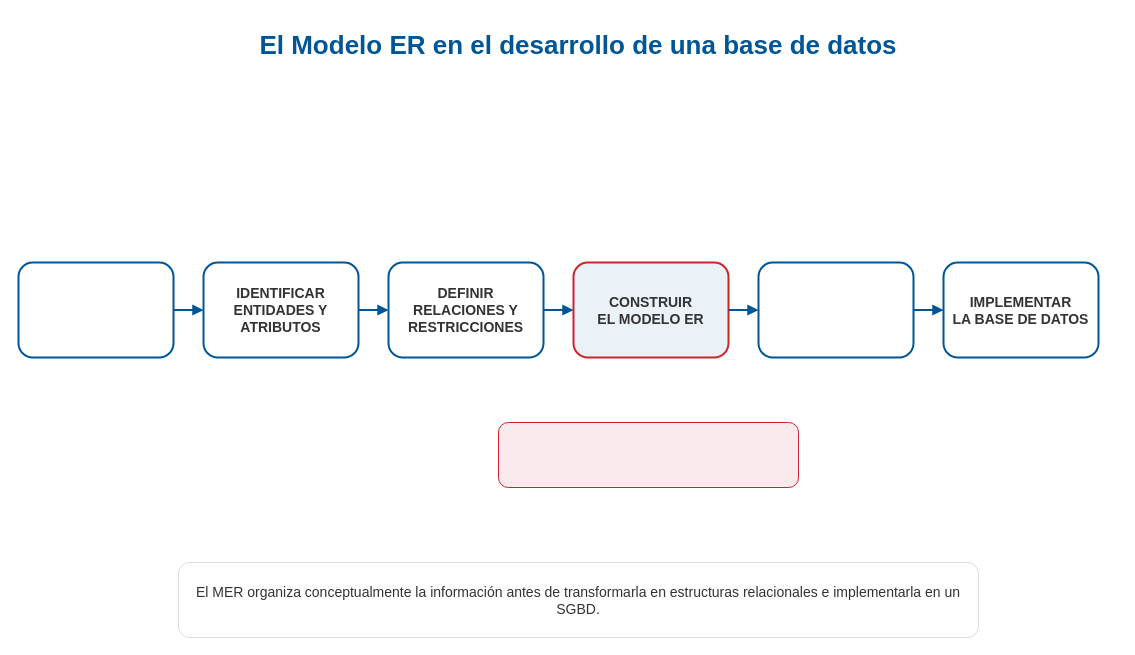
The diagram is 1135 pixels wide and 655 high, and some of its shapes have lost their labels. Each missing label, with the box of its shape:
ENTIDADES • ATRIBUTOS • RELACIONES: (498, 422, 798, 488)
REQUISITOS DEL SISTEMA: (17, 261, 174, 358)
TRANSFORMAR AL MODELO RELACIONAL: (757, 261, 914, 358)
